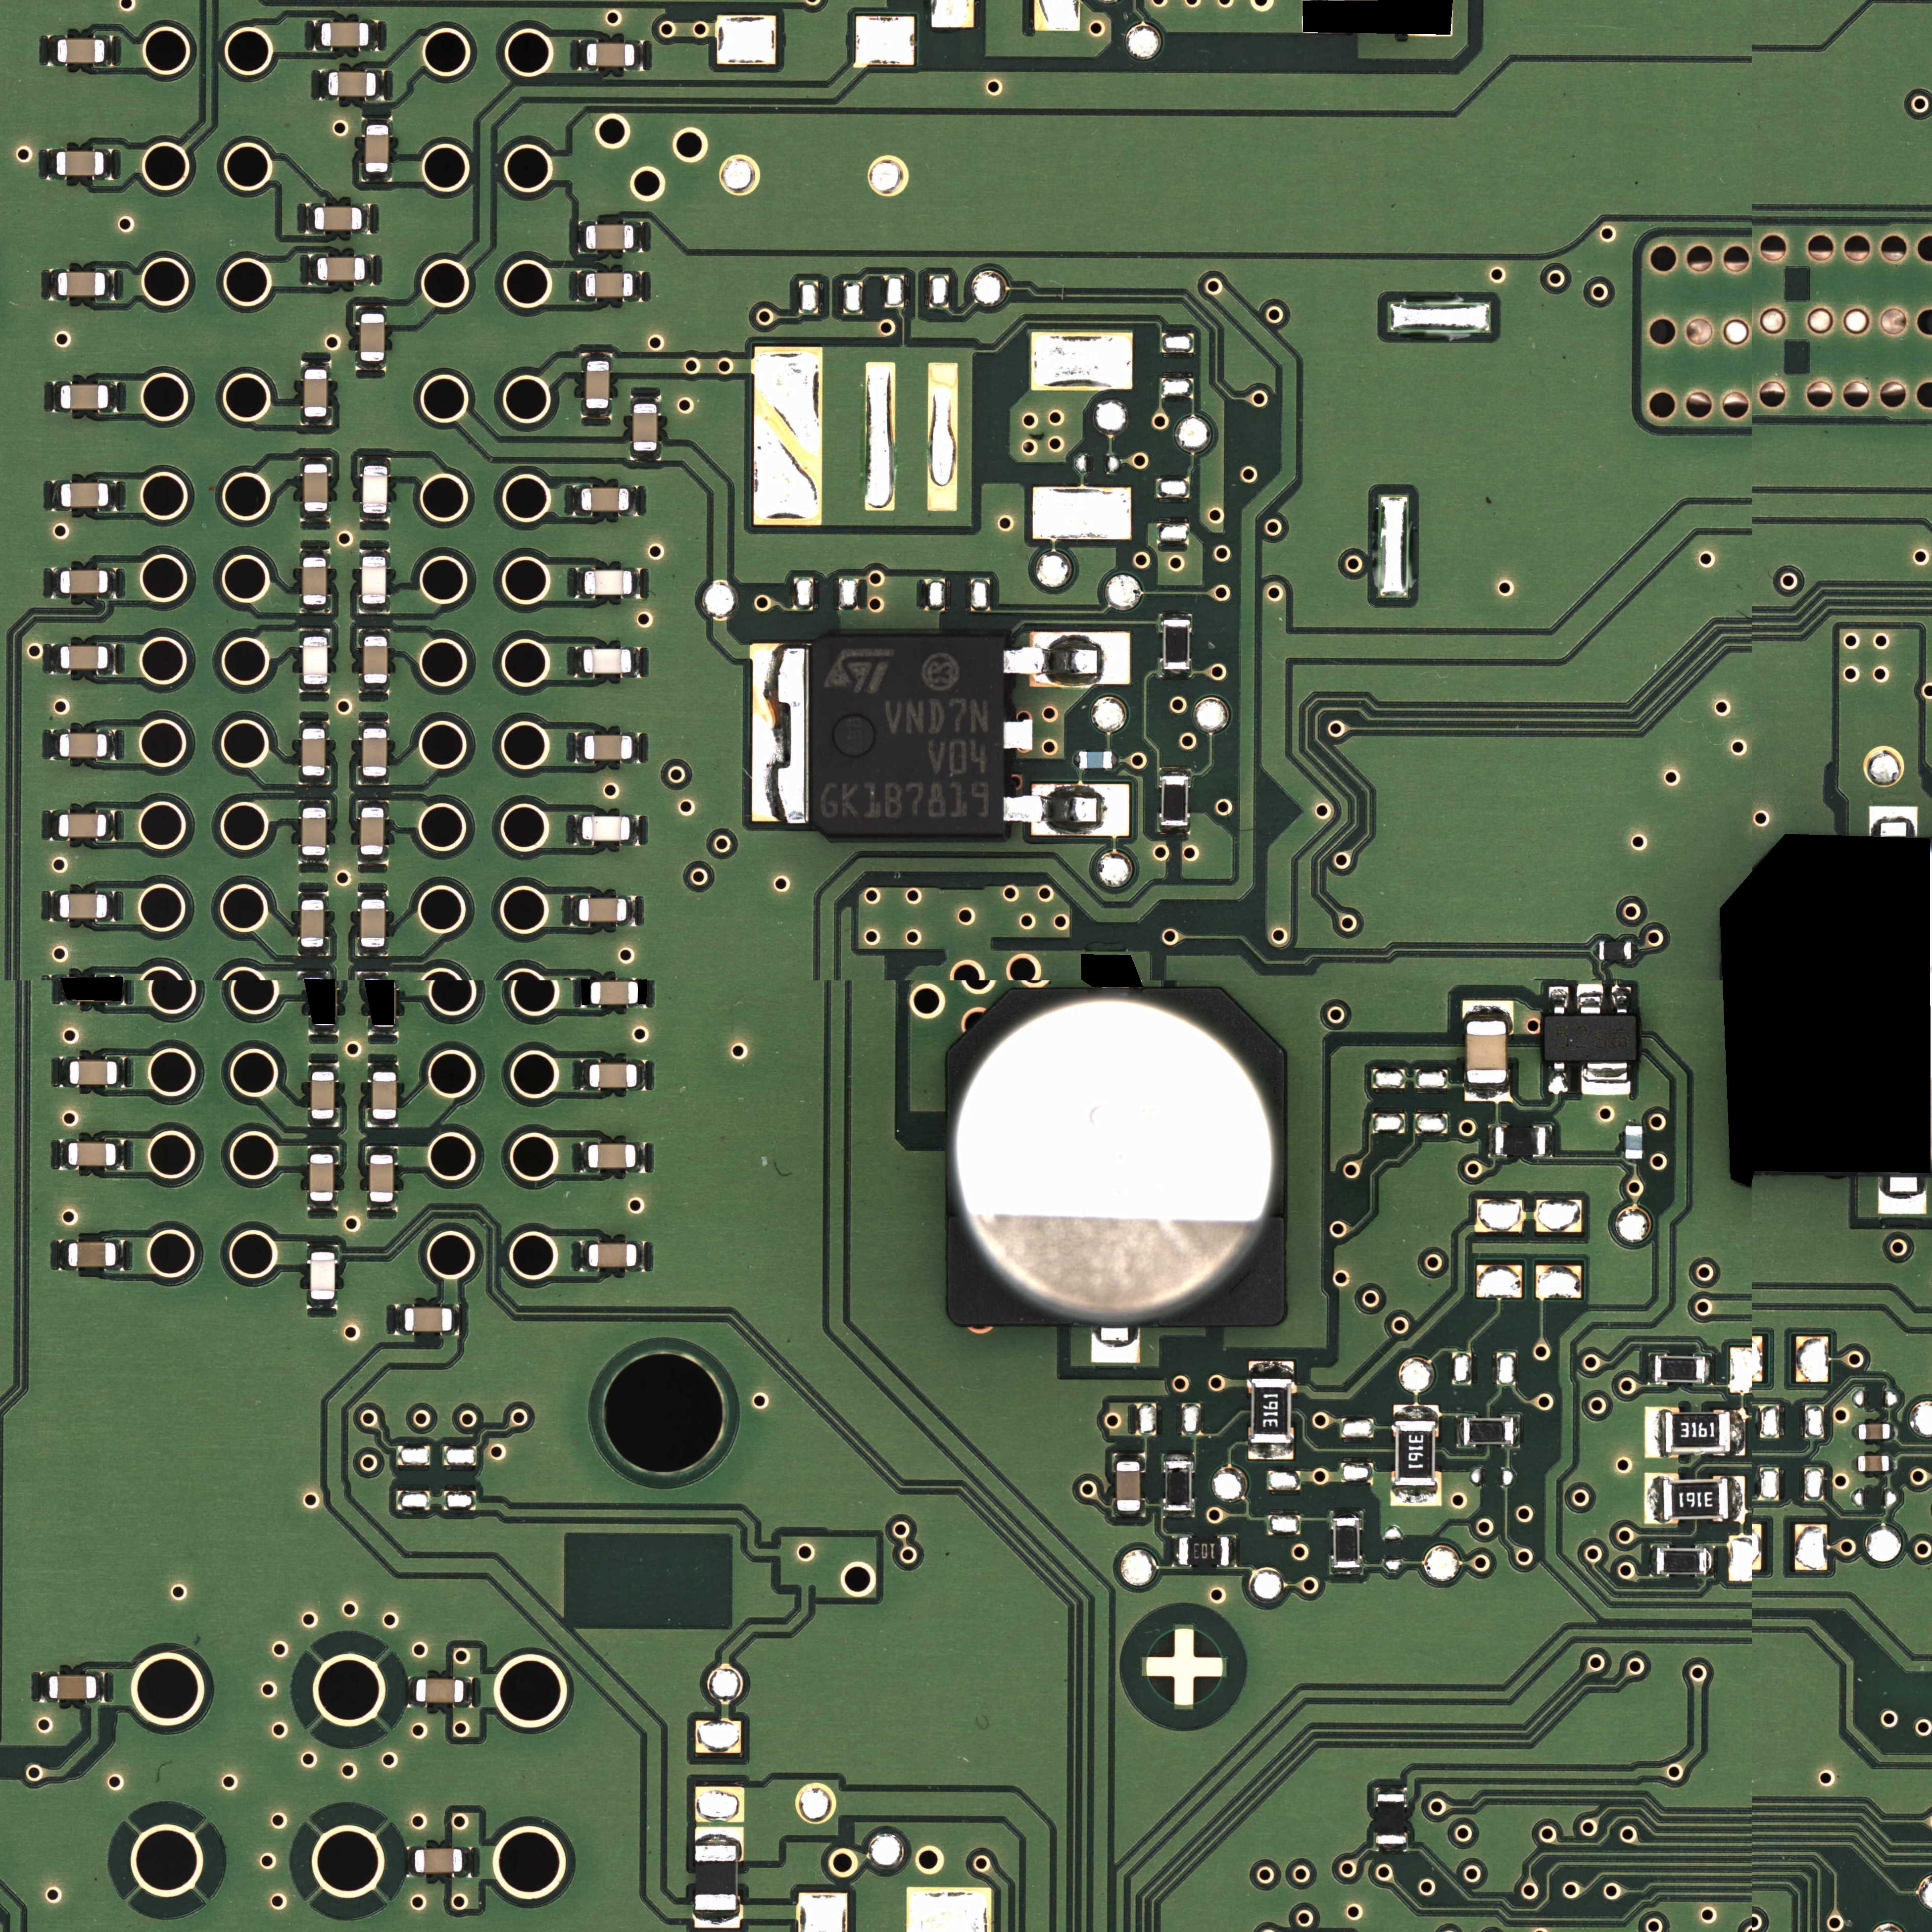Package: (945, 987, 1284, 1325), (810, 635, 1003, 837), (1543, 1016, 1638, 1062), (1665, 1412, 1730, 1454), (695, 1845, 738, 1911), (1663, 1479, 1729, 1520), (1394, 1422, 1435, 1486), (1251, 1380, 1292, 1444), (1467, 1021, 1507, 1083), (1495, 1127, 1546, 1155), (1180, 1537, 1230, 1566), (1376, 1794, 1405, 1844), (1656, 1548, 1707, 1575), (1654, 1355, 1704, 1382), (1166, 1461, 1192, 1511), (1463, 1419, 1513, 1445), (1334, 1518, 1359, 1568), (1116, 1461, 1141, 1511), (1162, 777, 1187, 826), (67, 1242, 117, 1267), (584, 736, 632, 761), (1164, 621, 1189, 669), (416, 1679, 464, 1704), (317, 257, 364, 281), (363, 729, 387, 777), (310, 1154, 334, 1201), (57, 39, 104, 64), (60, 483, 108, 508), (303, 557, 327, 605), (405, 1307, 453, 1332), (584, 570, 632, 594), (60, 384, 108, 409), (69, 1060, 117, 1085), (633, 403, 658, 451), (584, 649, 632, 674), (60, 893, 108, 918), (589, 1063, 637, 1088), (363, 465, 387, 513), (586, 272, 633, 297), (60, 570, 108, 594), (414, 1849, 462, 1874), (582, 816, 630, 840), (586, 225, 633, 249), (303, 637, 327, 685), (361, 899, 386, 947), (587, 42, 635, 67), (364, 126, 389, 172), (580, 488, 630, 511), (361, 557, 386, 603), (363, 637, 387, 683), (69, 1143, 117, 1166), (60, 734, 108, 757), (311, 1070, 334, 1118), (315, 207, 363, 230), (304, 464, 327, 511), (327, 73, 375, 96), (589, 1244, 637, 1267), (57, 152, 104, 175), (50, 1675, 97, 1698), (361, 313, 384, 361), (586, 361, 609, 409), (587, 1145, 635, 1168), (58, 272, 106, 295), (579, 899, 626, 922), (60, 646, 108, 669), (361, 807, 384, 855), (58, 814, 106, 837), (373, 1072, 396, 1118), (303, 729, 326, 775), (370, 1155, 393, 1201), (311, 1253, 334, 1299), (304, 370, 327, 416), (322, 23, 368, 46), (301, 901, 324, 947), (303, 809, 326, 855), (591, 982, 637, 1003), (1599, 941, 1631, 961), (1079, 752, 1113, 768), (1626, 1127, 1642, 1159), (1859, 1424, 1890, 1440), (1858, 1456, 1890, 1470)
Solder: (752, 642, 809, 823), (1005, 632, 1131, 685), (1005, 784, 1129, 837), (1879, 1175, 1925, 1215), (1090, 1327, 1139, 1362), (1868, 801, 1918, 835), (1582, 1062, 1629, 1095), (1463, 1000, 1513, 1021), (1645, 1407, 1665, 1458), (1391, 1486, 1442, 1506), (1644, 1472, 1663, 1523), (1003, 718, 1033, 750), (1465, 1083, 1511, 1102), (695, 1828, 743, 1845), (694, 1911, 741, 1928), (1729, 1476, 1746, 1522), (1249, 1361, 1293, 1378), (1578, 984, 1603, 1014), (1730, 1410, 1746, 1456), (1249, 1444, 1293, 1460), (1394, 1405, 1438, 1421), (1548, 1062, 1568, 1093), (1548, 985, 1568, 1014), (1612, 985, 1631, 1014), (357, 855, 389, 865), (356, 947, 387, 957), (301, 511, 331, 522), (359, 683, 389, 694), (356, 361, 386, 372), (464, 1677, 474, 1707), (364, 255, 375, 285), (370, 1062, 398, 1072), (299, 605, 333, 614), (357, 628, 391, 637), (297, 970, 331, 978), (357, 605, 389, 614), (318, 69, 327, 101), (1113, 1453, 1145, 1461), (1375, 1844, 1407, 1852), (359, 513, 391, 522), (359, 456, 391, 465), (299, 628, 331, 637), (299, 777, 331, 786), (577, 221, 586, 253), (357, 777, 389, 786), (1513, 1415, 1522, 1447), (630, 451, 662, 460), (1162, 1453, 1194, 1461), (301, 418, 331, 426), (310, 1118, 340, 1127), (368, 1201, 398, 1210), (308, 1201, 338, 1210), (575, 732, 584, 763), (377, 71, 386, 101), (361, 173, 391, 182), (301, 361, 331, 370), (405, 1847, 414, 1877), (299, 685, 329, 694), (356, 304, 386, 313), (582, 352, 612, 361), (299, 948, 329, 957), (407, 1677, 416, 1707), (464, 1847, 472, 1877), (50, 892, 58, 922), (370, 21, 379, 51), (1704, 1353, 1713, 1384), (51, 644, 60, 674), (108, 644, 117, 674), (106, 810, 115, 840), (108, 568, 117, 598), (60, 1056, 69, 1086), (106, 269, 115, 299), (1161, 612, 1191, 621), (1161, 669, 1191, 678), (577, 271, 586, 301), (630, 816, 639, 846), (48, 35, 57, 65), (363, 117, 391, 126), (301, 548, 329, 557), (632, 395, 660, 403), (308, 255, 317, 283), (363, 205, 372, 234), (582, 409, 610, 418), (310, 1026, 338, 1035), (356, 971, 389, 978), (297, 856, 329, 863), (1159, 826, 1191, 833), (366, 1120, 398, 1127), (1162, 1511, 1194, 1518), (1330, 1568, 1362, 1575), (299, 800, 331, 807), (366, 1146, 398, 1154), (1230, 1536, 1237, 1568), (357, 800, 389, 807), (306, 1300, 338, 1307), (1330, 1511, 1362, 1518), (313, 19, 320, 51), (630, 485, 637, 517), (635, 221, 642, 253), (1546, 1125, 1553, 1157), (1488, 1125, 1495, 1157), (1649, 1545, 1656, 1576), (633, 568, 640, 600), (48, 149, 55, 180), (632, 646, 639, 678), (50, 269, 57, 301), (299, 720, 329, 727), (359, 720, 389, 727), (359, 548, 389, 556), (1161, 768, 1191, 775), (308, 1063, 338, 1070), (297, 892, 327, 899), (637, 1143, 644, 1173), (53, 568, 60, 598), (1456, 1415, 1463, 1445), (60, 1240, 67, 1270), (41, 1672, 48, 1702), (51, 810, 58, 840), (308, 1244, 338, 1251), (308, 1146, 338, 1154), (635, 41, 642, 71), (1115, 1511, 1145, 1518), (53, 481, 60, 511), (573, 485, 580, 515), (60, 1139, 67, 1169), (577, 568, 584, 598), (580, 1240, 587, 1270), (1647, 1353, 1654, 1384), (453, 1304, 460, 1334), (306, 203, 313, 234), (575, 648, 582, 678), (1707, 1546, 1714, 1576), (571, 895, 579, 925), (628, 895, 635, 925), (53, 382, 60, 412), (110, 481, 117, 511), (117, 1240, 124, 1270), (1171, 1536, 1178, 1566), (580, 1141, 587, 1171), (637, 1242, 644, 1272), (97, 1672, 104, 1702), (108, 729, 115, 759), (582, 1060, 589, 1090), (633, 271, 640, 301), (110, 382, 117, 412), (633, 732, 640, 763), (104, 149, 111, 179), (301, 456, 331, 464), (637, 1060, 644, 1090), (396, 1306, 403, 1336), (359, 892, 387, 899), (51, 731, 58, 759), (1376, 1787, 1405, 1794), (579, 41, 586, 69), (575, 816, 582, 844), (108, 892, 115, 920), (117, 1139, 124, 1168), (370, 1026, 398, 1033), (106, 35, 111, 65), (1631, 941, 1638, 961), (1592, 941, 1599, 959), (1890, 1424, 1897, 1440), (1851, 1456, 1858, 1472), (1852, 1424, 1859, 1440), (1890, 1456, 1897, 1470), (1624, 1120, 1642, 1125), (1074, 752, 1079, 768), (1113, 752, 1118, 768), (1626, 1159, 1642, 1164)
